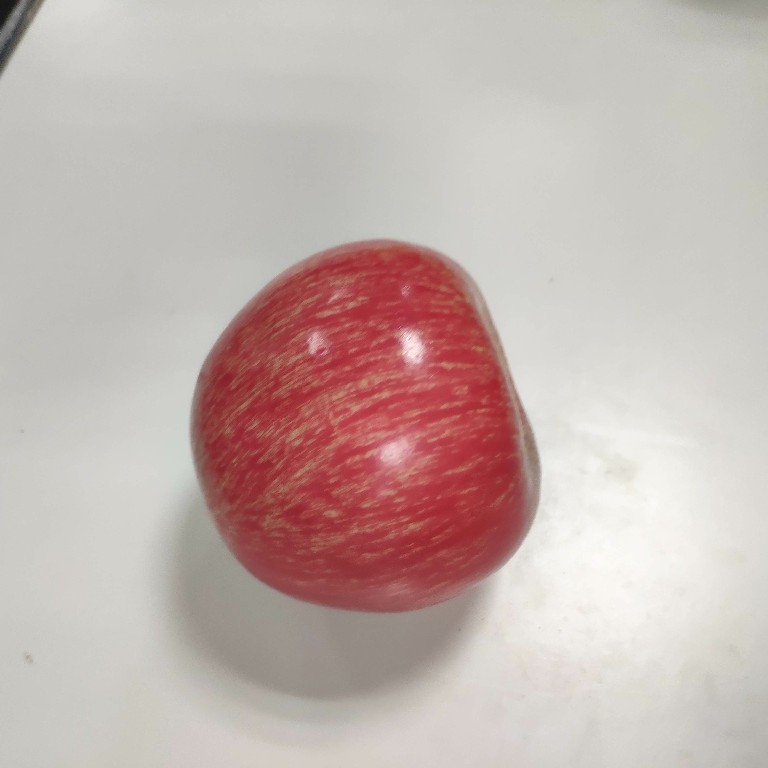fruit_apple: (182, 231, 549, 619)
